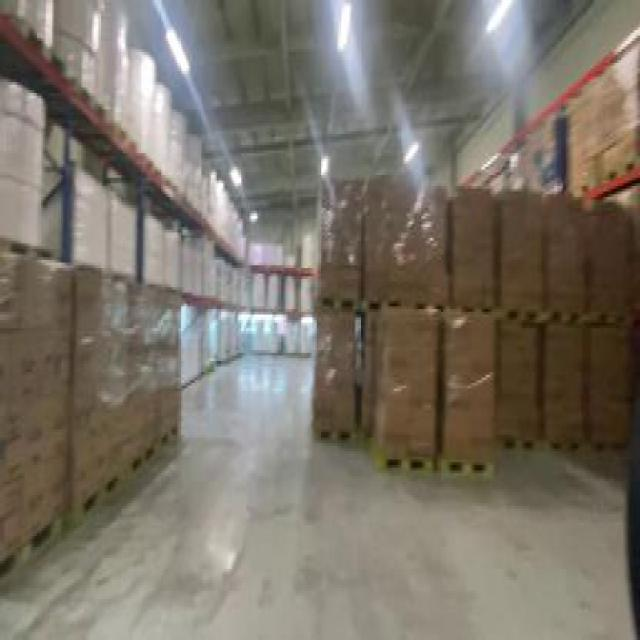box: (316, 172, 638, 484), (0, 246, 182, 539), (563, 52, 639, 183), (516, 118, 564, 188)
white_roll: (176, 112, 250, 254), (60, 159, 142, 279), (54, 0, 134, 115), (0, 82, 49, 260), (129, 41, 171, 172), (182, 243, 246, 309), (177, 314, 241, 372), (140, 211, 182, 290), (249, 270, 314, 314), (246, 317, 314, 358), (246, 238, 314, 279)
